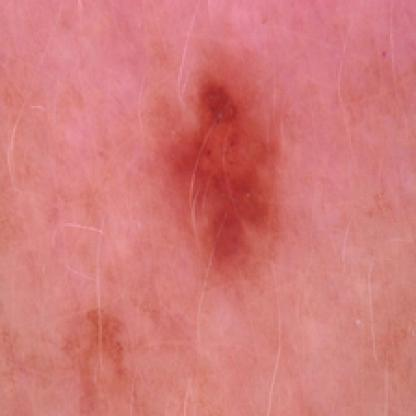benign: (164, 52, 292, 267)
